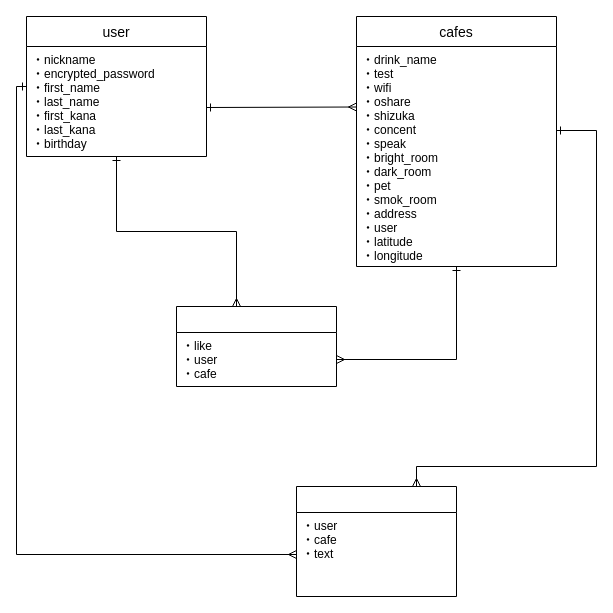
The diagram is 613 pixels wide and 613 high, and some of its shapes have lost their labels. The box of each missing label's shape, as (x1, y1, x2, y2) in pixels:
comments: (296, 486, 456, 596)
likes: (176, 306, 336, 386)
